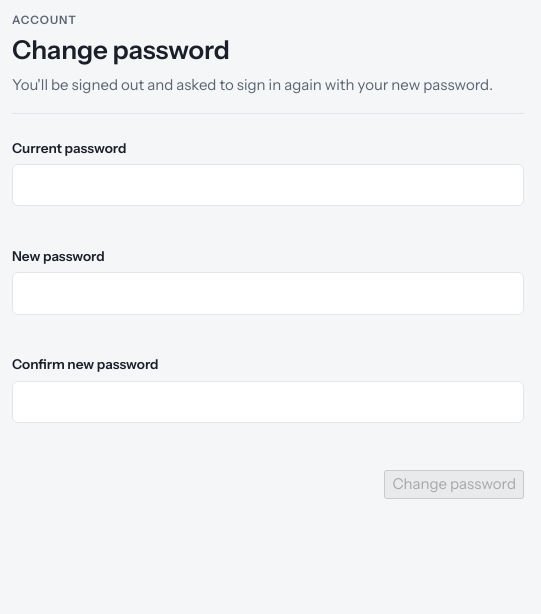
Test case: ChangePasswordComponent › shows an error and does not sign out when the current password is wrong
Type "wrong" into the password field labelled "Current password" at (268, 185), box x1=12 y1=164 x2=524 y2=206
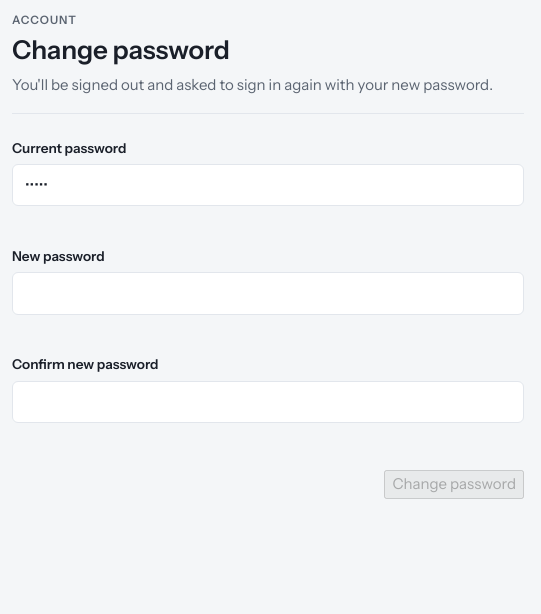
Type "a-strong-new-password" into the password field labelled "New password" at (268, 293), box x1=12 y1=272 x2=524 y2=314
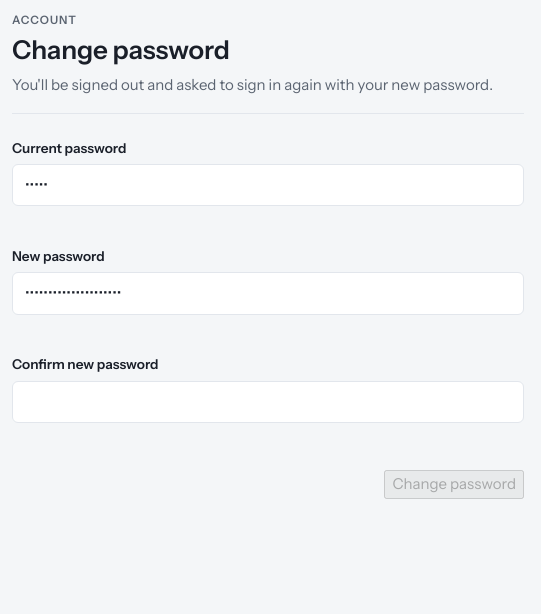
Type "a-strong-new-password" into the password field labelled "Confirm new password" at (268, 402), box x1=12 y1=380 x2=524 y2=423
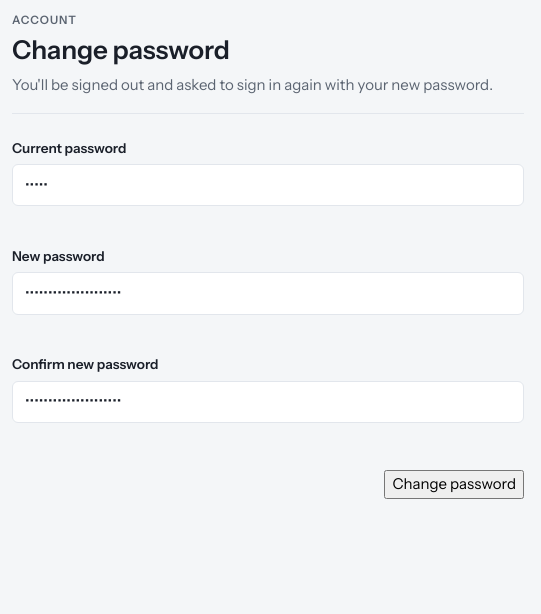
Submit the form, box x1=12 y1=138 x2=524 y2=499
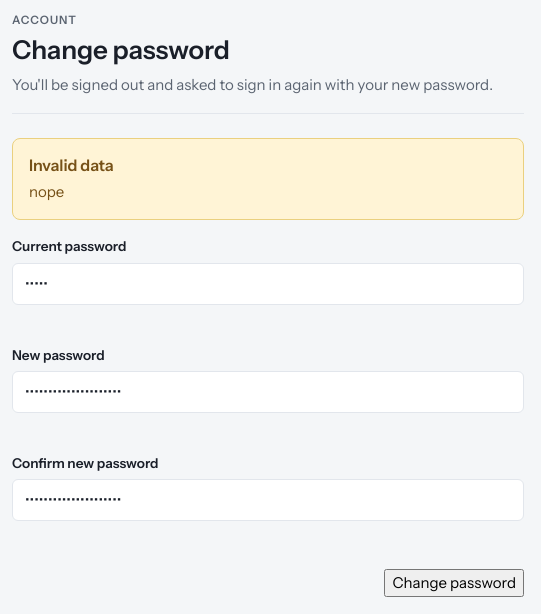
Now the text "Invalid data" is shown, box x1=29 y1=155 x2=114 y2=175
